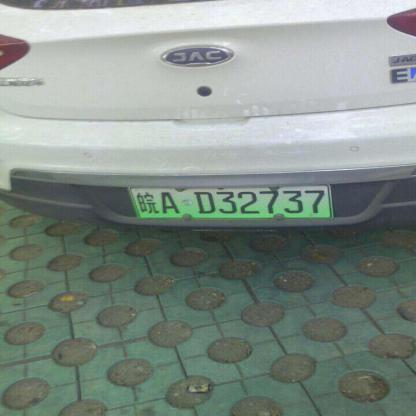lp: (129, 185, 331, 218)
